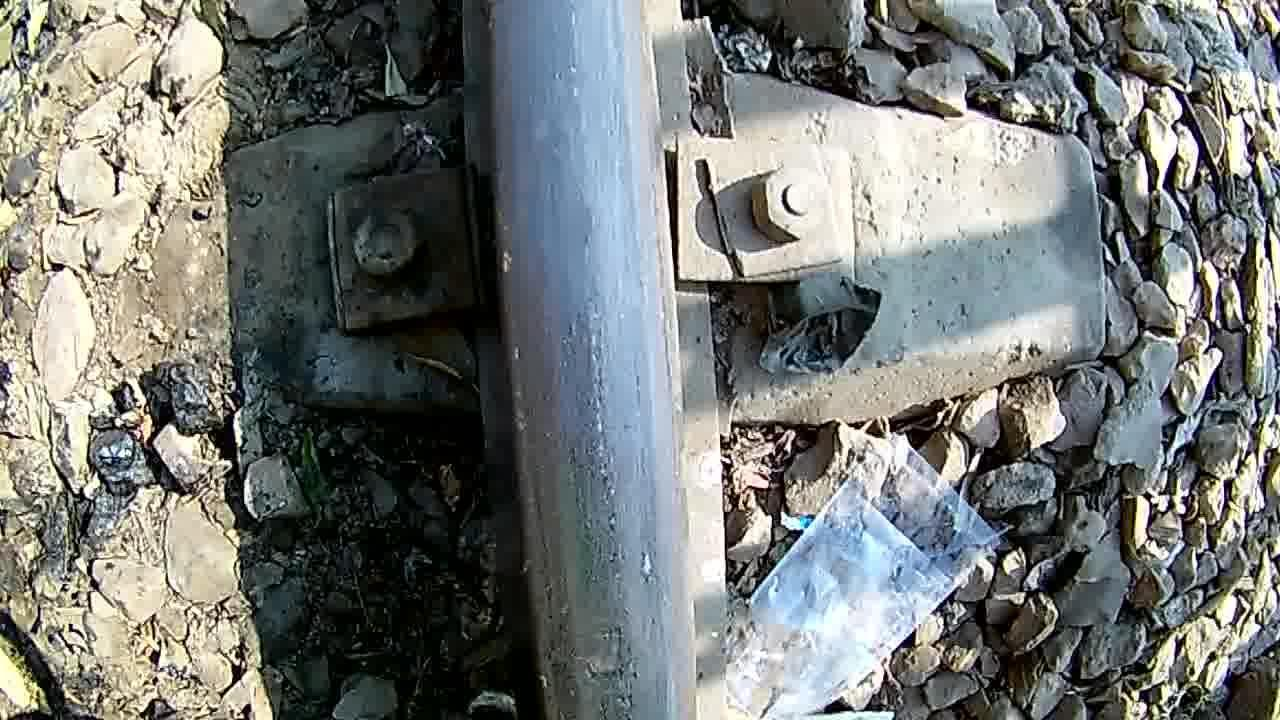crack: (534, 527, 669, 720)
